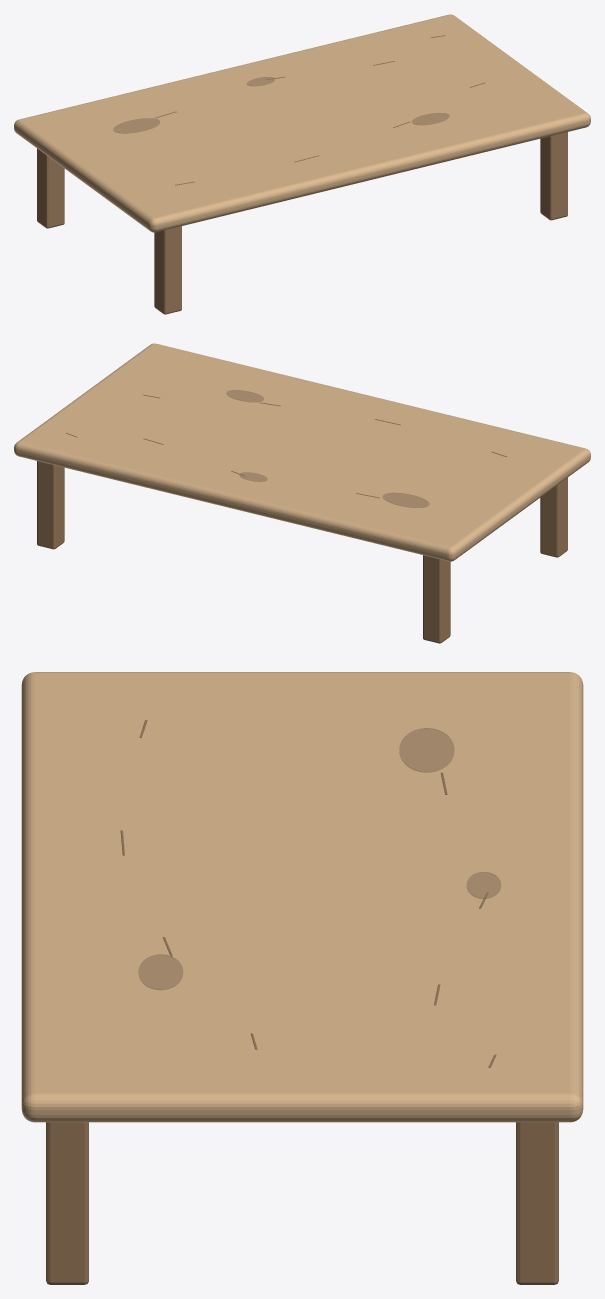
The model's file is workbench.glb.
3 renders of one model, top to bottom at view 1: azimuth 30°, elevation 25°; view 2: azimuth 150°, elevation 25°; view 3: azimuth 270°, elevation 25°, orthographic. The views are drawn at different scales.
Visible parts, largest first — view 1: Workbench_Top, Workbench_Leg_FR, Workbench_Leg_FL, Workbench_Leg_BL, Workbench_Soft_Stain_1; view 2: Workbench_Top, Workbench_Leg_BR, Workbench_Leg_BL, Workbench_Leg_FL, Workbench_Soft_Stain_1; view 3: Workbench_Top, Workbench_Leg_BR, Workbench_Leg_FR, Workbench_Soft_Stain_1, Workbench_Soft_Stain_2.
Boxes of the visible parts, x1,y1,x2,y2 form: Workbench_Top: (14, 14, 590, 232); Workbench_Leg_FR: (540, 132, 567, 220); Workbench_Leg_FL: (154, 226, 181, 314); Workbench_Leg_BL: (37, 148, 64, 228); Workbench_Soft_Stain_1: (113, 118, 159, 133); Workbench_Top: (14, 343, 590, 561); Workbench_Leg_BR: (37, 461, 64, 549); Workbench_Leg_BL: (423, 555, 450, 643); Workbench_Leg_FL: (540, 477, 567, 557); Workbench_Soft_Stain_1: (382, 492, 429, 507); Workbench_Top: (21, 672, 583, 1122); Workbench_Leg_BR: (516, 1122, 558, 1284); Workbench_Leg_FR: (46, 1122, 88, 1284); Workbench_Soft_Stain_1: (399, 728, 454, 772); Workbench_Soft_Stain_2: (138, 954, 183, 990).
Bounding box in the file's own units: 5.9 × 1.33 × 3.25.
